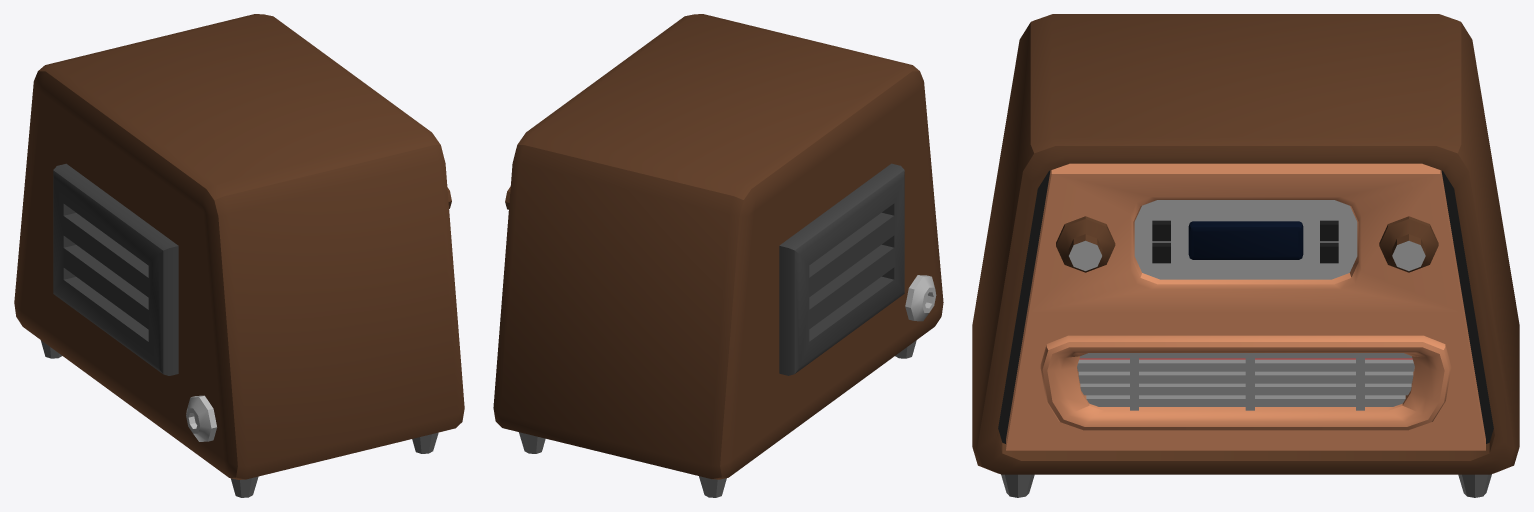
Rendered from Radio_01.glb.
3 views of the same model, side by side, from view 1: azimuth 30°, elevation 25°; view 2: azimuth 150°, elevation 25°; view 3: azimuth 270°, elevation 25° (orthographic). The views are drawn at different scales.
Visible parts, largest first — view 1: Mesh_Radio_01; view 2: Mesh_Radio_01; view 3: Mesh_Radio_01.
Part boxes in pixels (x1,y1,x2,y2): Mesh_Radio_01: (14, 14, 464, 497); Mesh_Radio_01: (493, 14, 943, 497); Mesh_Radio_01: (972, 14, 1519, 497).
Size of the model in its own units: 0.2037 by 0.2172 by 0.2954.
Materials: 1 (1 with a texture image).
